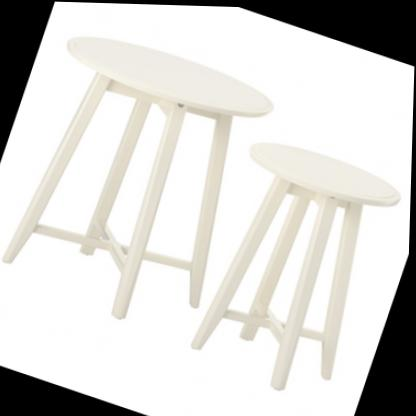Table: (0, 13, 285, 347), (177, 122, 413, 412)
